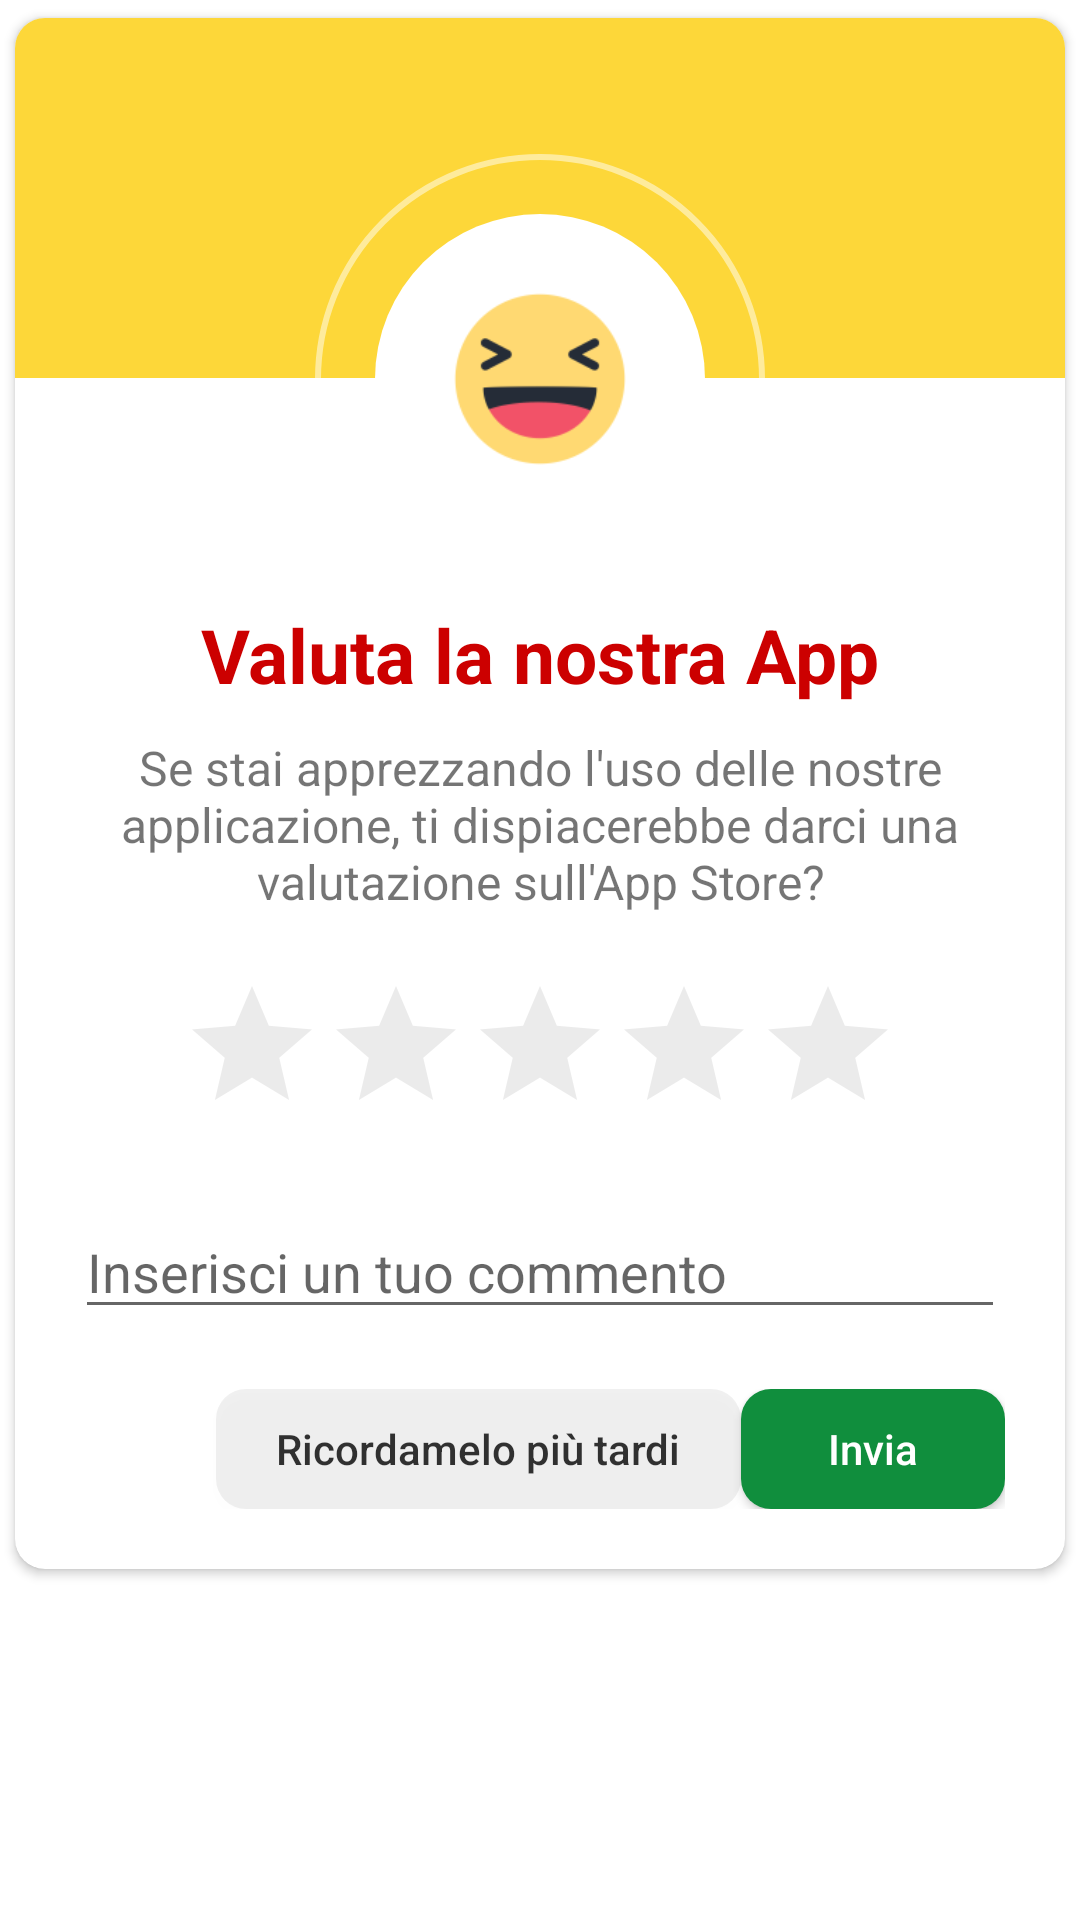

Where to tap for icons on this 1080 × 1920 app screen, as (x,y):
laughing: (540,379)
